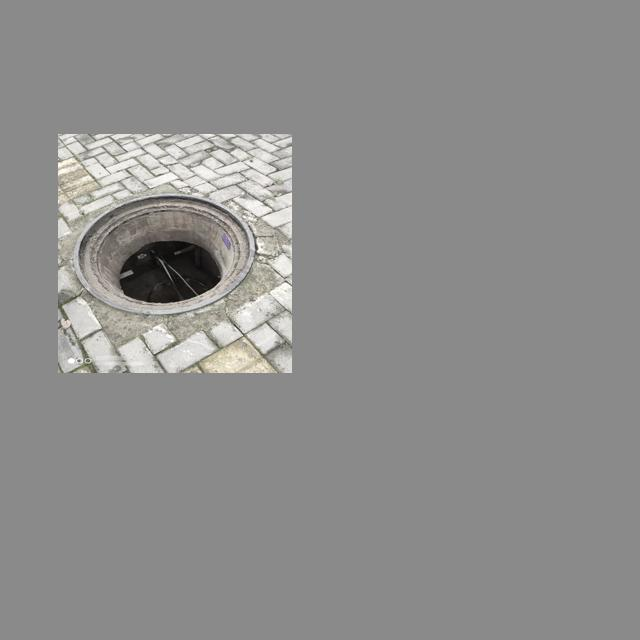lose: (71, 192, 255, 316)
